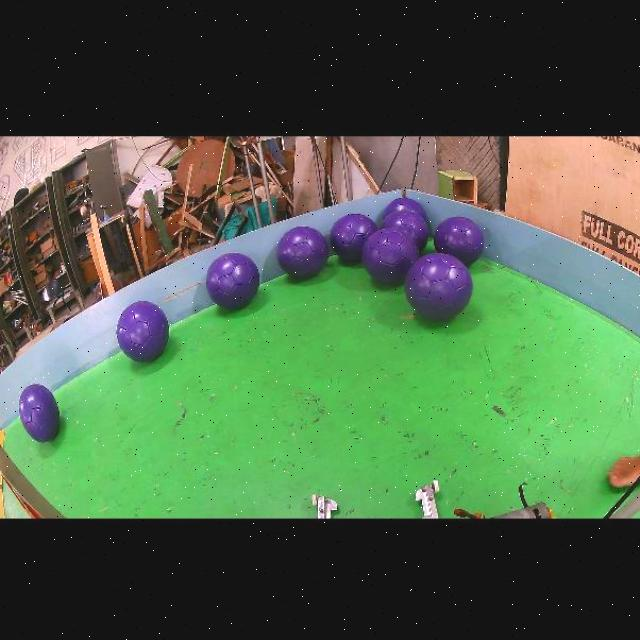P: (405, 253, 473, 321), (361, 228, 419, 284), (117, 301, 169, 362), (206, 253, 259, 309), (276, 227, 328, 279), (435, 216, 484, 266), (19, 385, 60, 442), (330, 213, 377, 261), (381, 211, 429, 251), (384, 197, 427, 221)
